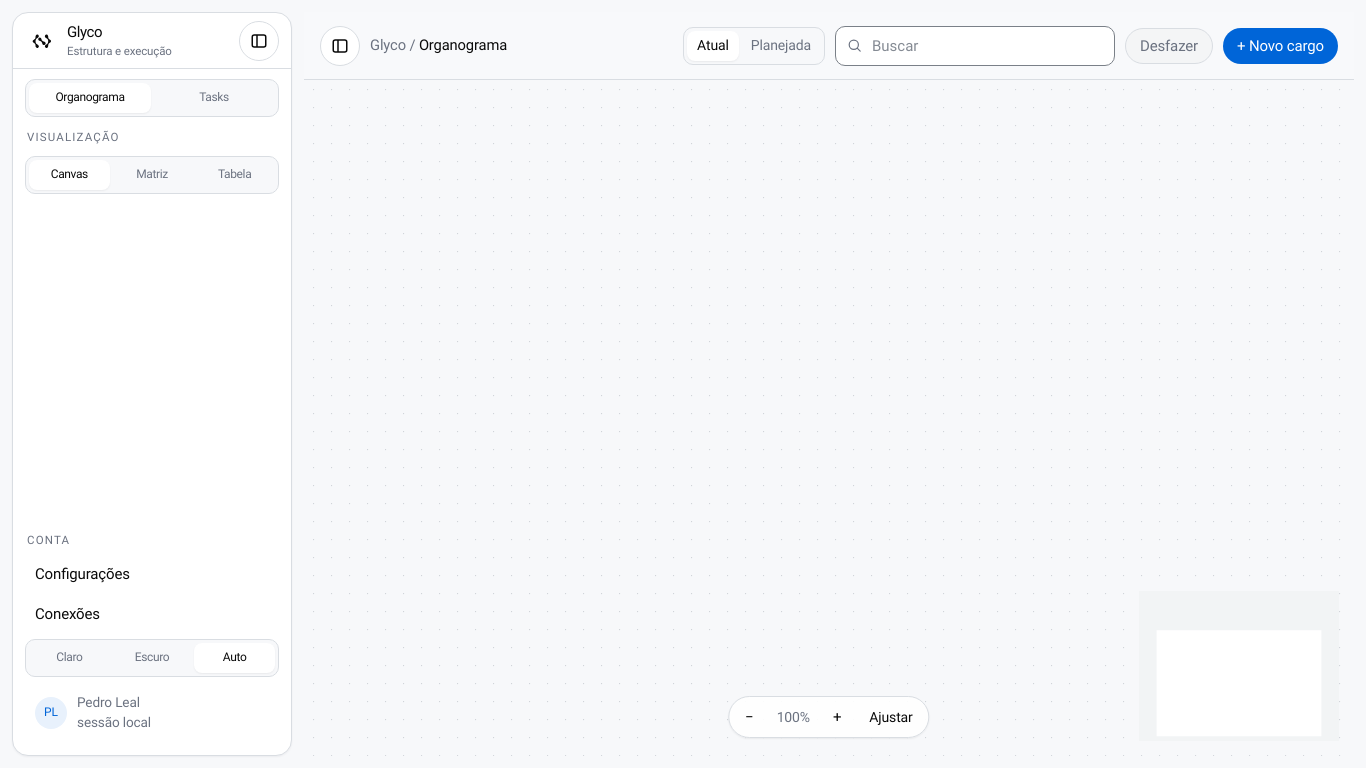
ambientes › abre o cargo a partir da tarefa
Click the button "Tasks". click: click(214, 98)
box: [153,83,275,113]
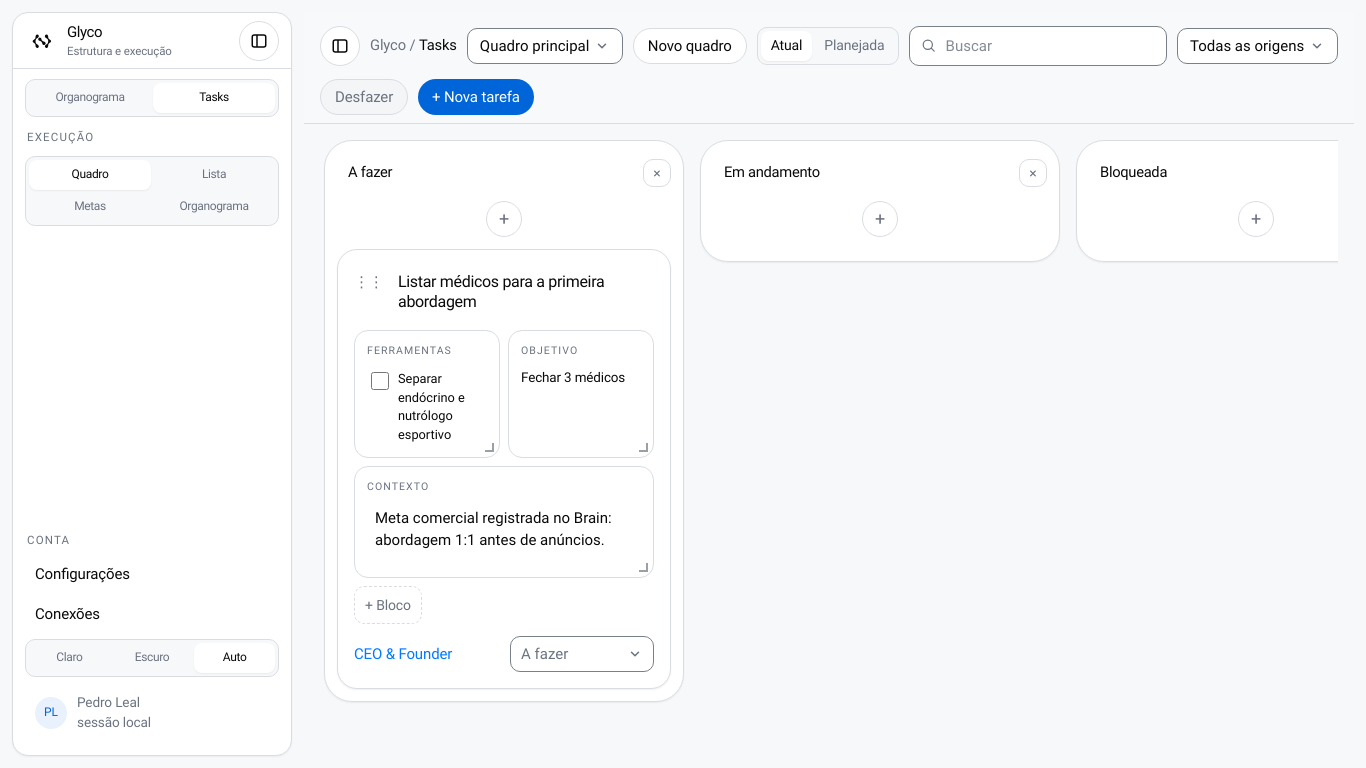
Click the button named "Listar médicos para a primeira abordagem". click: click(368, 282)
box: [354,266,382,298]
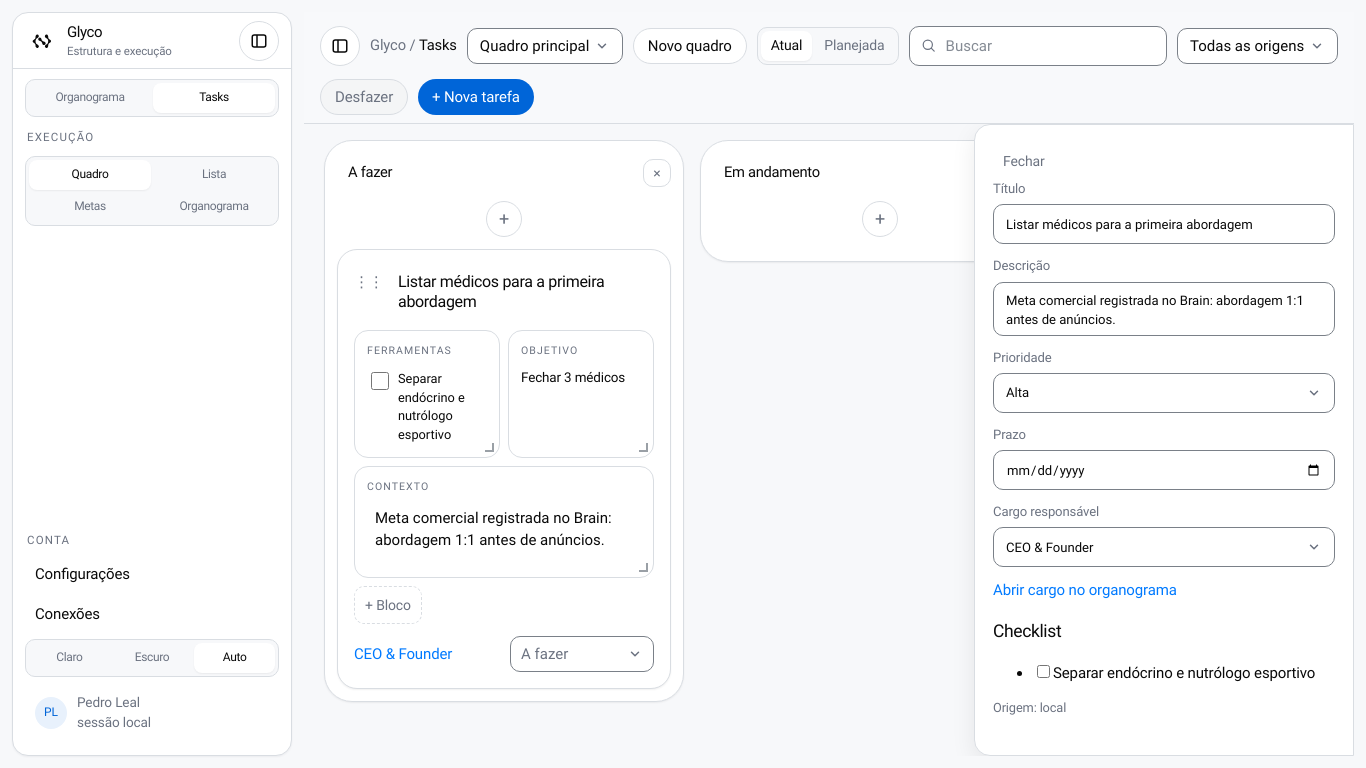
Click the button "Abrir cargo no organograma". click: click(1085, 590)
box: [993,580,1177,602]
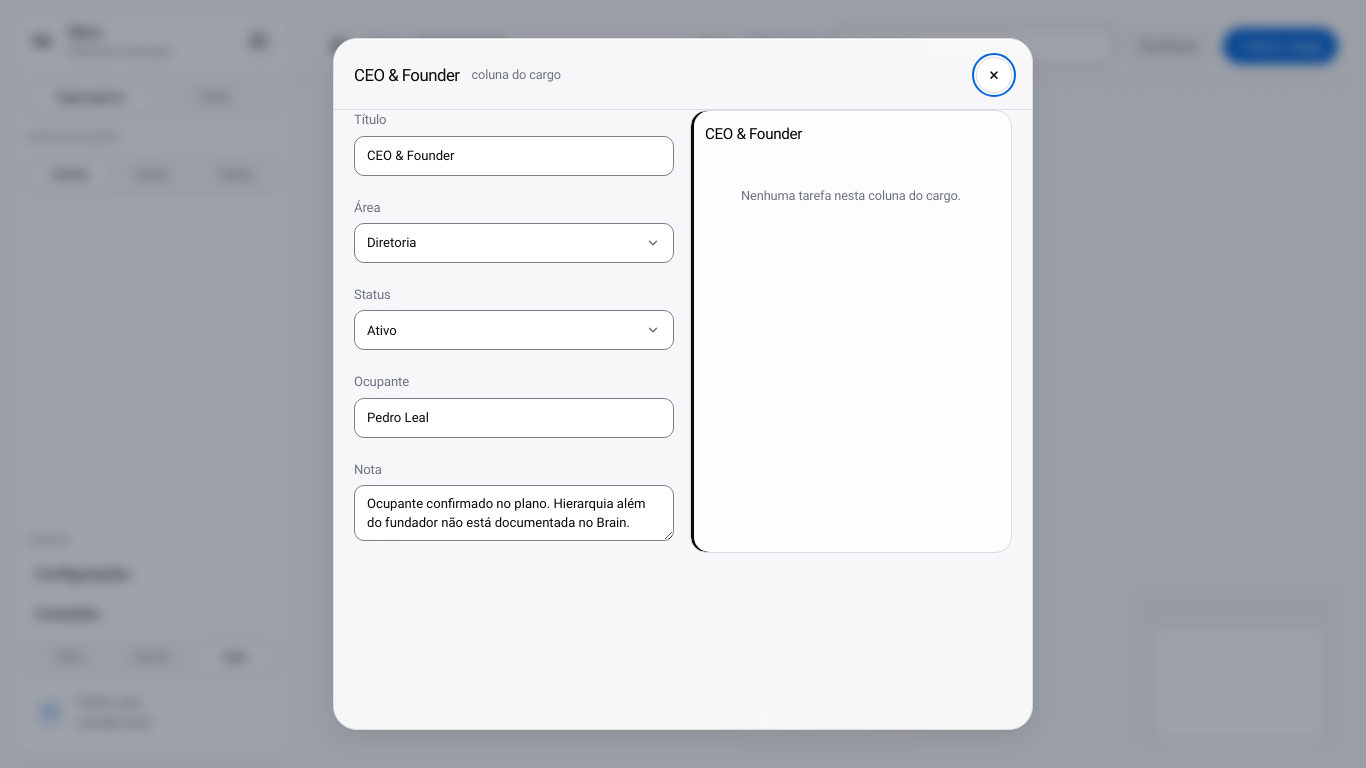
Expected: the element named "Cargos no organograma" is shown
Expected: the dialog is shown, [333,38,1033,730]
Expected: the heading with id "role-modal-title" reads "CEO & Founder", [354,65,460,85]
